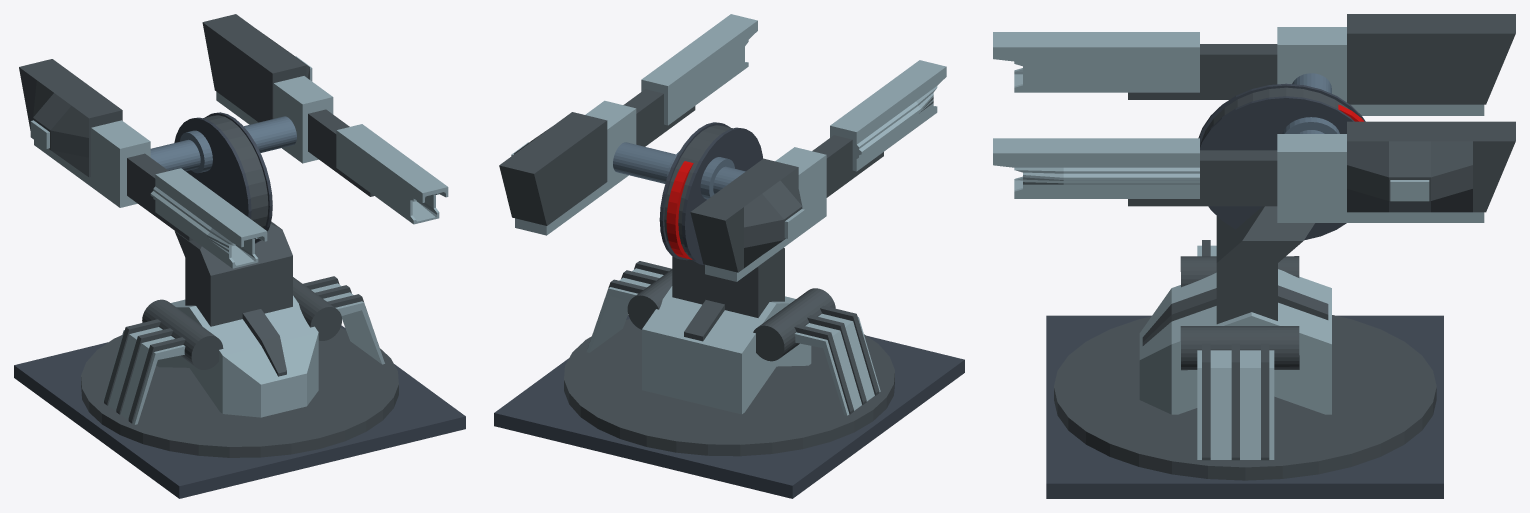
The model's file is Turm 12.fbx.
3 views of the same model, side by side, from view 1: azimuth 30°, elevation 25°; view 2: azimuth 150°, elevation 25°; view 3: azimuth 270°, elevation 25° (orthographic). The views are drawn at different scales.
Parts seen in each view (by area): view 1: Cube, Cube.007; view 2: Cube, Cube.007; view 3: Cube, Cube.007.
Part boxes in pixels (left/top/right/bottom): Cube: left=19, top=14, right=448, bottom=457; Cube.007: left=14, top=325, right=465, bottom=498; Cube: left=499, top=14, right=946, bottom=456; Cube.007: left=494, top=315, right=964, bottom=498; Cube: left=993, top=14, right=1515, bottom=480; Cube.007: left=1046, top=315, right=1443, bottom=498.
Bounding box in the file's own units: 270 × 253 × 355.
